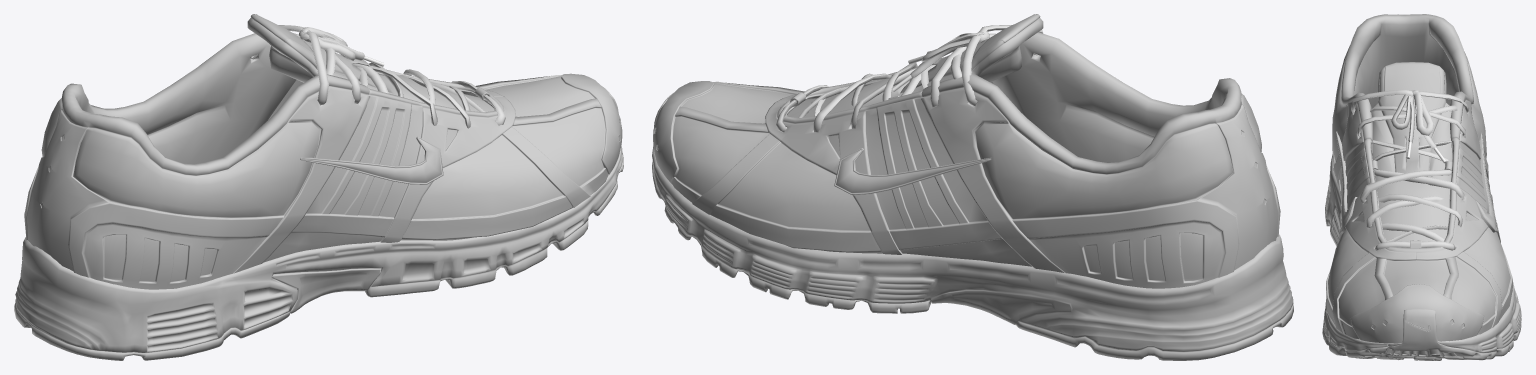
File: shoe_group_l_90x.FBX
The picture shows the model from 3 angles, left to right: view 1: azimuth 30°, elevation 25°; view 2: azimuth 150°, elevation 25°; view 3: azimuth 270°, elevation 25°; orthographic projection. The views are drawn at different scales.
Visible parts, largest first — view 1: shoe_l, sole_l, laces_l; view 2: shoe_l, sole_l, laces_l; view 3: shoe_l, sole_l, laces_l.
Part boxes in pixels (x1=…): shoe_l: x1=24, y1=14, x2=622, y2=289; sole_l: x1=14, y1=86, x2=623, y2=360; laces_l: x1=250, y1=25, x2=505, y2=128; shoe_l: x1=653, y1=14, x2=1280, y2=288; sole_l: x1=652, y1=93, x2=1293, y2=360; laces_l: x1=776, y1=25, x2=1043, y2=132; shoe_l: x1=1326, y1=14, x2=1512, y2=343; sole_l: x1=1322, y1=154, x2=1521, y2=360; laces_l: x1=1351, y1=90, x2=1468, y2=250.
Bounding box in the file's own units: 192 × 80.59 × 71.01.
